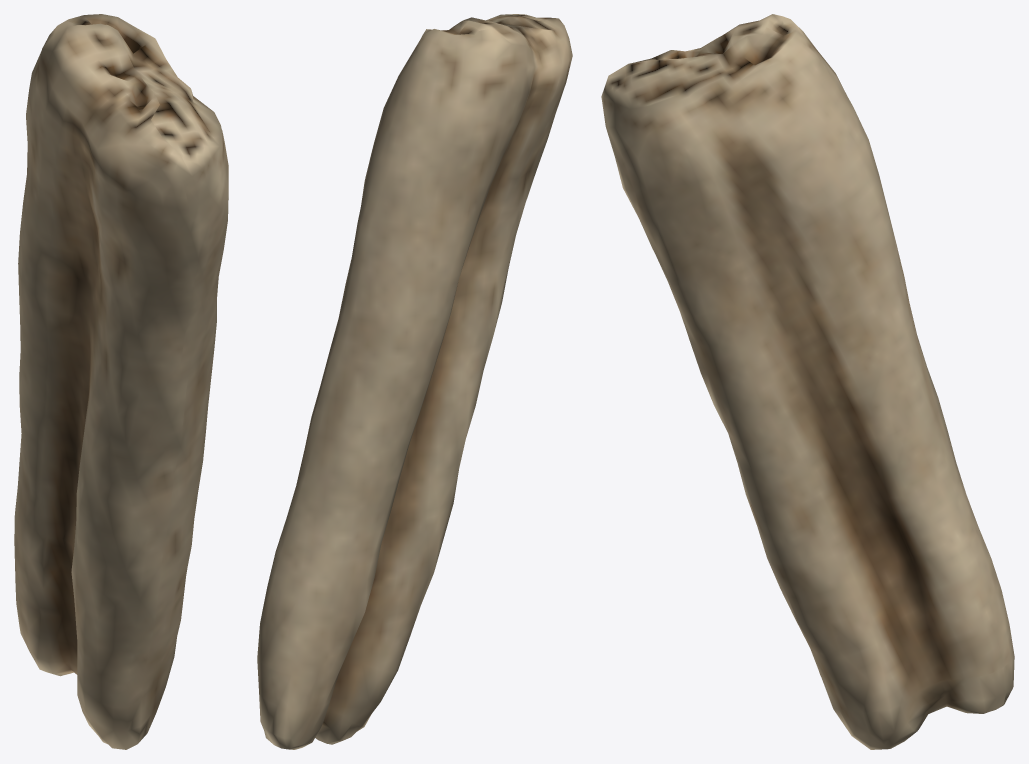
Rendered from Mandibular_Molar5.glb.
3 renders of one model, left to right at view 1: azimuth 30°, elevation 25°; view 2: azimuth 150°, elevation 25°; view 3: azimuth 270°, elevation 25°, orthographic. The views are drawn at different scales.
Visible parts, largest first — view 1: Group3944_Mesh.053; view 2: Group3944_Mesh.053; view 3: Group3944_Mesh.053.
Boxes of the visible parts, left/top/right/bottom form: Group3944_Mesh.053: left=14, top=14, right=228, bottom=749; Group3944_Mesh.053: left=257, top=14, right=572, bottom=749; Group3944_Mesh.053: left=601, top=14, right=1014, bottom=749.
Size of the model in its own units: 0.0212 by 0.0862 by 0.0471.
Materials: 1 (1 with a texture image).
